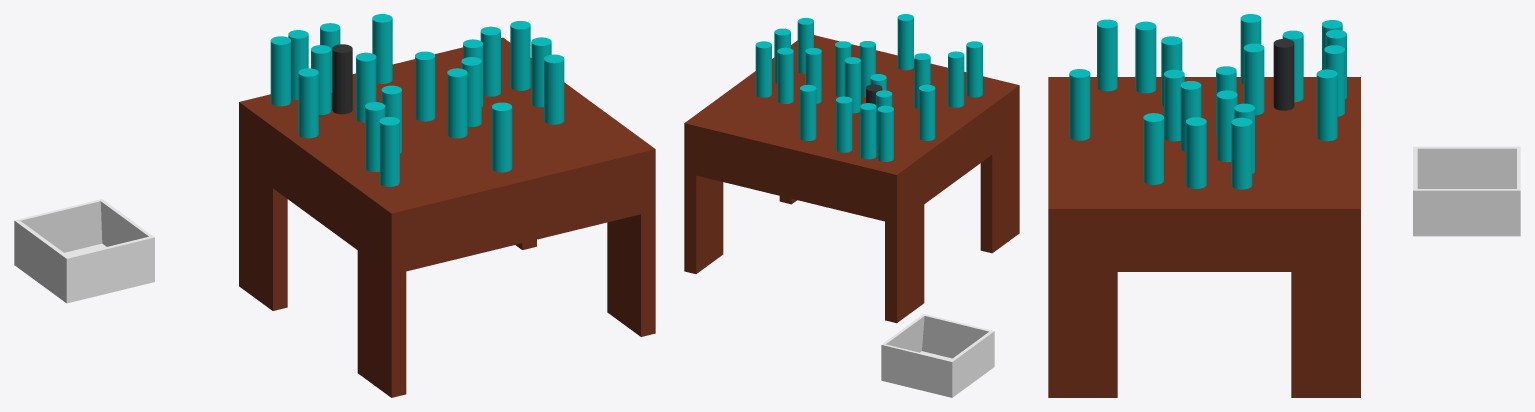
Rendered from can_world_20_cans.dae.
3 renders of one model, left to right at view 1: azimuth 30°, elevation 25°; view 2: azimuth 150°, elevation 25°; view 3: azimuth 270°, elevation 25°, orthographic. The views are drawn at different scales.
Parts seen in each view (by area): view 1: base (×23), SketchUp (×2); view 2: base (×22), SketchUp (×2); view 3: base (×22), SketchUp (×2).
Boxes of the visible parts, x1=… form: base (×23): x1=239, y1=14, x2=655, y2=397; SketchUp (×2): x1=14, y1=199, x2=154, y2=303; base (×22): x1=684, y1=14, x2=1019, y2=323; SketchUp (×2): x1=881, y1=314, x2=994, y2=397; base (×22): x1=1048, y1=14, x2=1360, y2=397; SketchUp (×2): x1=1413, y1=146, x2=1520, y2=236.
Size of the model in its own units: 1.4 by 1.36 by 0.811.
